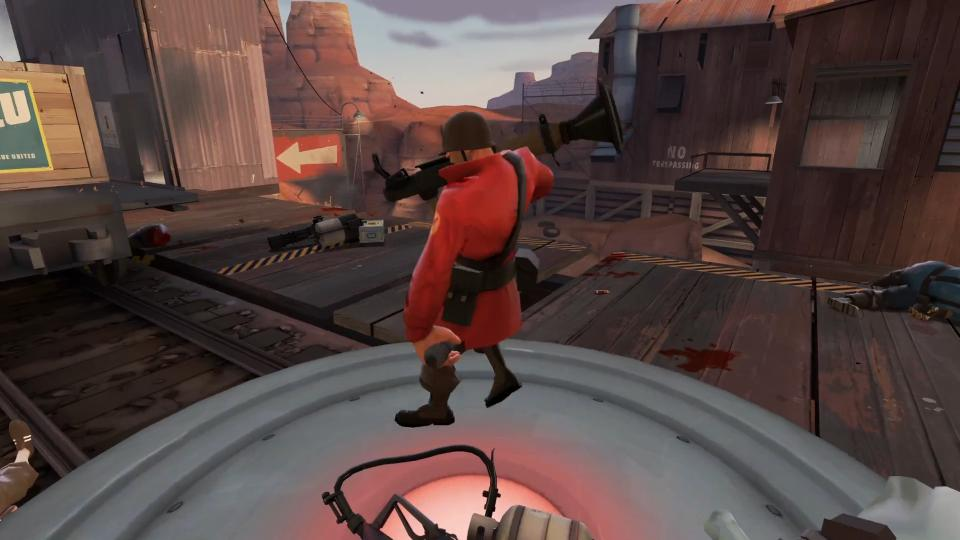Enemy: (369, 76, 629, 430), (826, 256, 960, 325)
